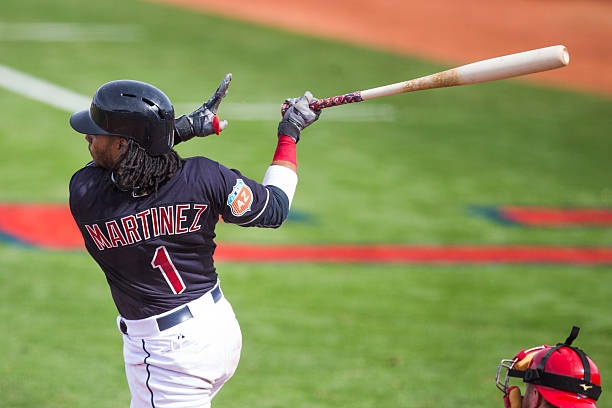bita: (283, 43, 569, 113)
